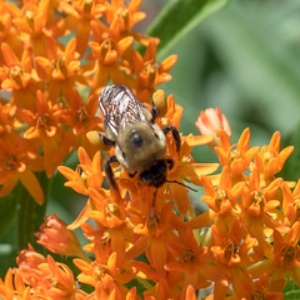bee: (92, 84, 199, 207)
